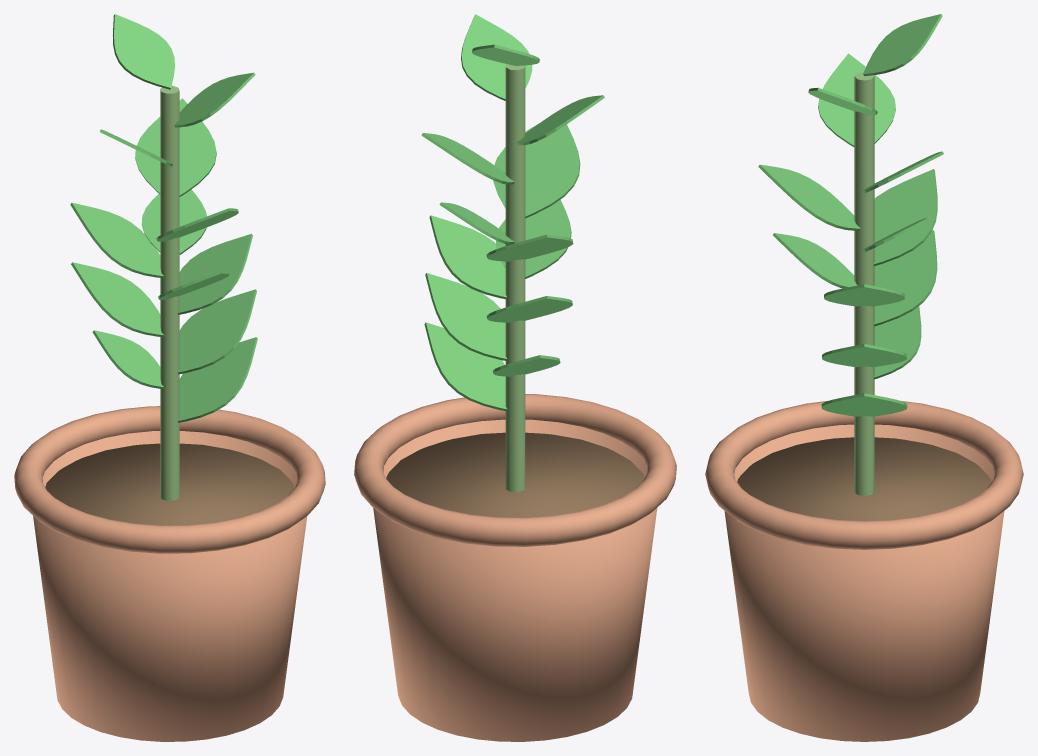
Rendered from plant_growth.glb.
3 views of the same model, side by side, from view 1: azimuth 30°, elevation 25°; view 2: azimuth 150°, elevation 25°; view 3: azimuth 270°, elevation 25° (orthographic). The views are drawn at different scales.
Parts seen in each view (by area): view 1: pot_body, pot_rim, soil, week_3_stem, week_2_leaf0, week_1_leaf0, week_3_leaf3, week_3_leaf1, week_2_leaf1, week_3_leaf0, week_3_leaf6, week_1_leaf1 (+4 smaller); view 2: pot_body, pot_rim, soil, week_3_stem, week_2_leaf0, week_3_leaf2, week_1_leaf0, week_3_leaf0, week_3_leaf5, week_2_leaf2, week_3_leaf1, week_2_leaf1 (+5 smaller); view 3: pot_body, pot_rim, soil, week_3_stem, week_3_leaf1, week_2_leaf1, week_3_leaf4, week_3_leaf2, week_3_leaf6, week_1_leaf1, week_2_leaf2, week_1_leaf0 (+3 smaller).
Part boxes in pixels (bbox=[...]): pot_body: bbox=[33, 431, 307, 741]; pot_rim: bbox=[14, 406, 325, 553]; soil: bbox=[45, 443, 294, 525]; week_3_stem: bbox=[160, 85, 179, 500]; week_2_leaf0: bbox=[177, 289, 256, 374]; week_1_leaf0: bbox=[177, 337, 257, 422]; week_3_leaf3: bbox=[135, 98, 216, 196]; week_3_leaf1: bbox=[70, 202, 163, 277]; week_2_leaf1: bbox=[71, 262, 163, 336]; week_3_leaf0: bbox=[177, 234, 252, 314]; week_3_leaf6: bbox=[112, 14, 174, 89]; week_1_leaf1: bbox=[92, 330, 163, 388]; pot_body: bbox=[373, 419, 657, 741]; pot_rim: bbox=[354, 394, 676, 546]; soil: bbox=[386, 432, 644, 517]; week_3_stem: bbox=[505, 64, 525, 492]; week_2_leaf0: bbox=[425, 273, 507, 360]; week_3_leaf2: bbox=[493, 124, 580, 218]; week_1_leaf0: bbox=[424, 322, 507, 411]; week_3_leaf0: bbox=[429, 215, 507, 299]; week_3_leaf5: bbox=[461, 14, 532, 100]; week_2_leaf2: bbox=[496, 199, 571, 278]; week_3_leaf1: bbox=[486, 234, 573, 261]; week_2_leaf1: bbox=[486, 296, 572, 322]; pot_body: bbox=[724, 424, 1004, 741]; pot_rim: bbox=[705, 400, 1023, 549]; soil: bbox=[737, 437, 991, 520]; week_3_stem: bbox=[854, 72, 874, 495]; week_3_leaf1: bbox=[873, 169, 937, 266]; week_2_leaf1: bbox=[873, 230, 937, 326]; week_3_leaf4: bbox=[818, 53, 895, 146]; week_3_leaf2: bbox=[758, 164, 860, 230]; week_3_leaf6: bbox=[863, 14, 942, 76]; week_1_leaf1: bbox=[873, 306, 921, 379]; week_2_leaf2: bbox=[773, 233, 857, 288]; week_1_leaf0: bbox=[821, 393, 907, 416].
Bounding box in the file's own units: 0.132 × 0.3065 × 0.132.
